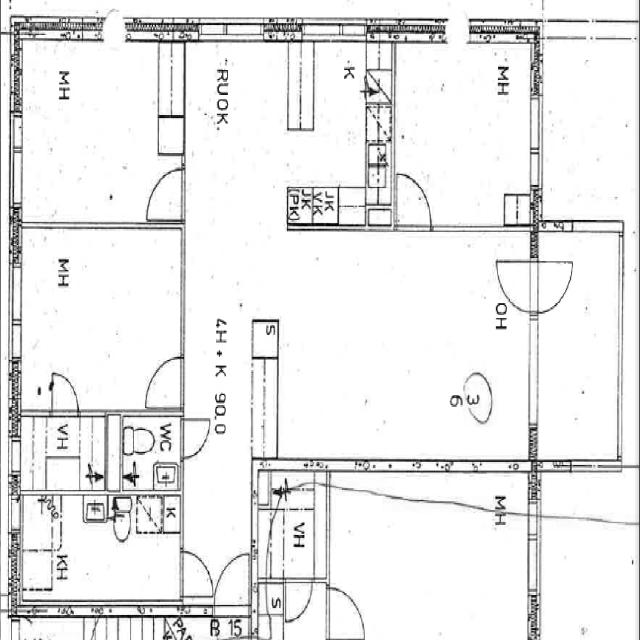door: (141, 351, 186, 412), (212, 546, 252, 612), (326, 581, 369, 640), (395, 166, 434, 228), (144, 164, 184, 222), (497, 257, 538, 313), (534, 258, 575, 312), (177, 545, 215, 602), (46, 366, 84, 416), (178, 414, 214, 463), (282, 574, 314, 624), (102, 4, 125, 46)
window: (523, 313, 544, 428), (197, 18, 269, 45), (6, 254, 26, 350), (8, 121, 26, 212), (300, 18, 367, 42), (525, 529, 543, 609), (526, 89, 544, 166)
zone: (19, 228, 184, 410), (18, 39, 178, 225), (330, 502, 535, 640), (393, 40, 536, 228), (532, 230, 622, 470), (31, 494, 185, 608), (534, 517, 639, 640), (309, 39, 379, 197), (257, 475, 328, 581), (17, 413, 110, 493), (116, 413, 182, 492), (286, 40, 316, 134)
